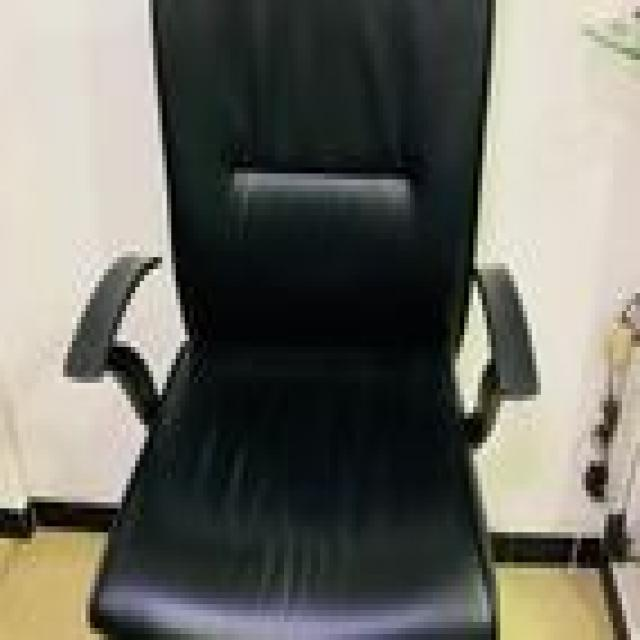others: (58, 6, 546, 640)
